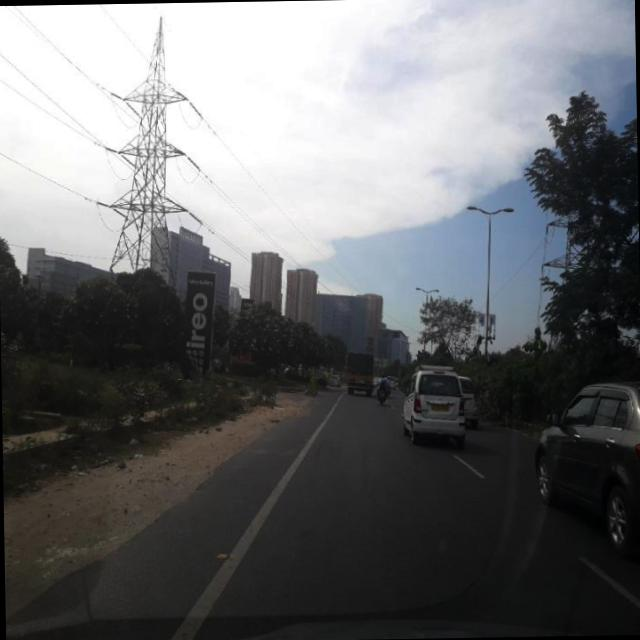crack: (218, 462, 506, 629)
